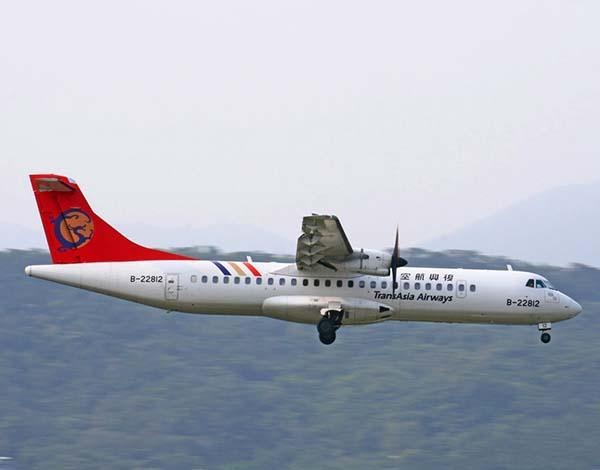airplane: (18, 170, 586, 343)
